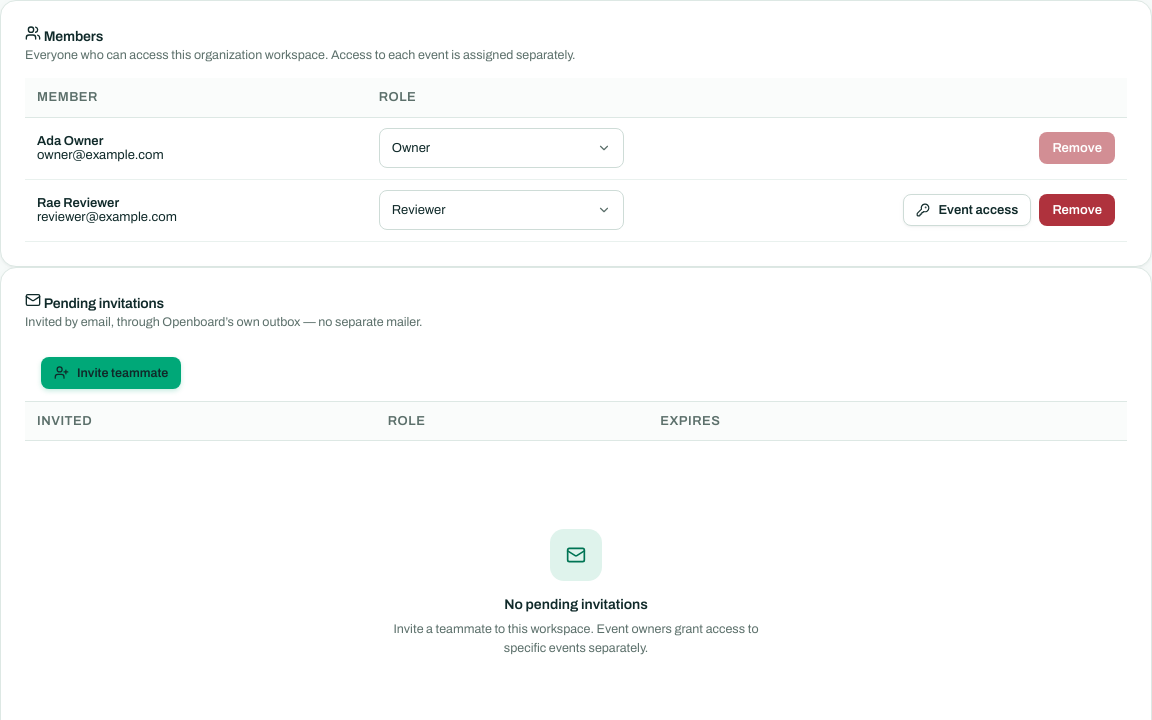
organization Team membership recovery › observes surviving event access when the target is concurrently removed from the organization
The width and height of the screenshot is (1152, 720).
Click the button "Event access": (967,210) [903, 194, 1031, 226]
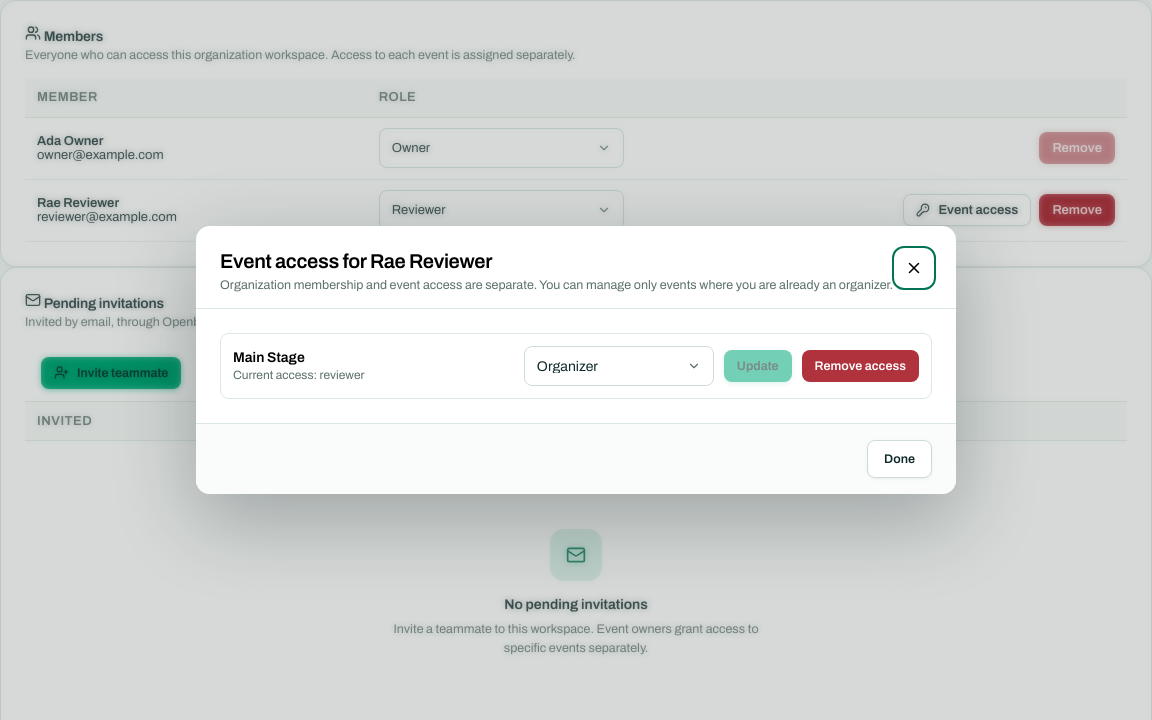
Select "Organizer" in the dropdown named "Role for Main Stage": (619,366) [524, 346, 714, 386]
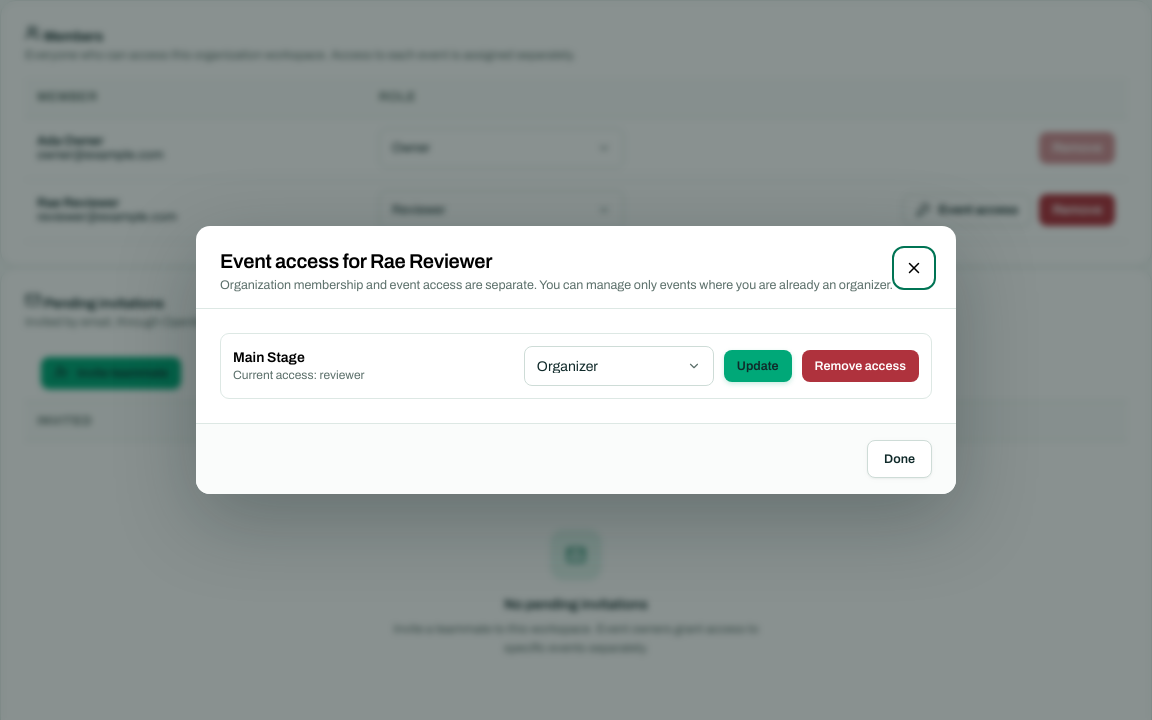
Click the button "Update": (758,366) [724, 350, 792, 382]
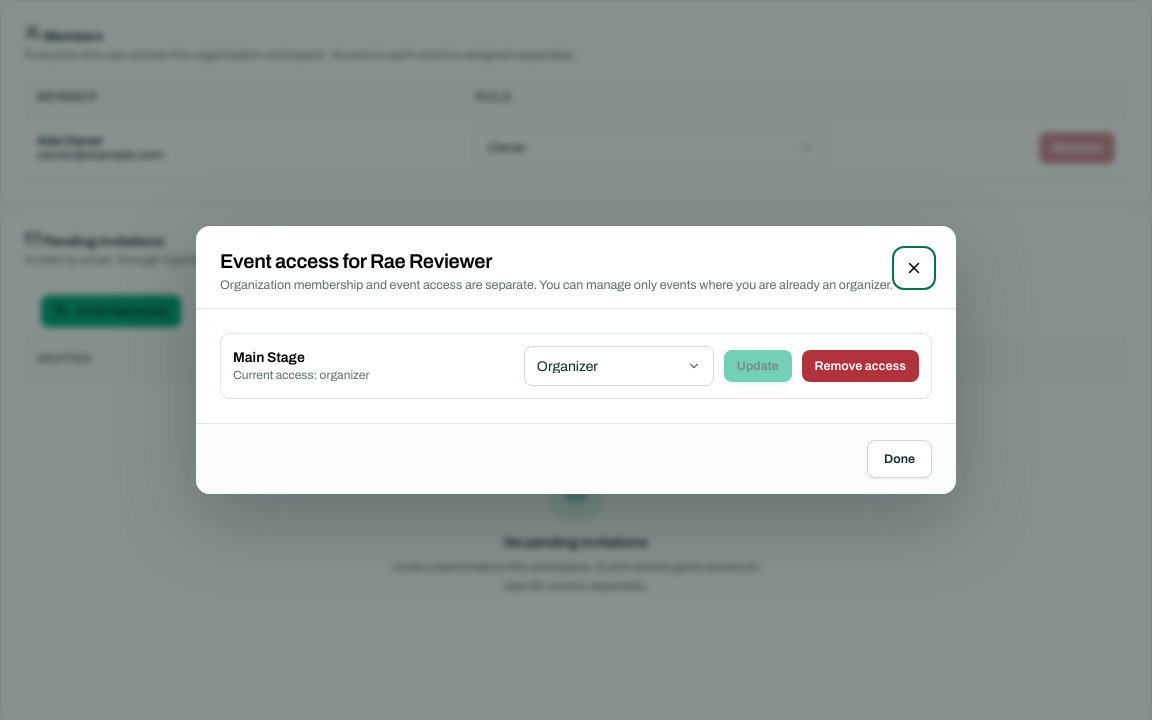
Now the dialog shows "Current access: organizer", box [233, 368, 369, 382]
